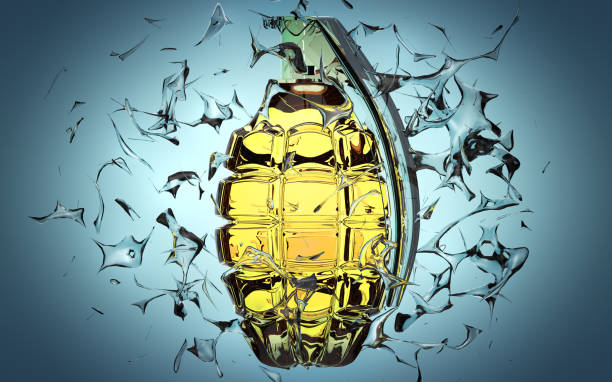e1: (218, 14, 421, 366)
